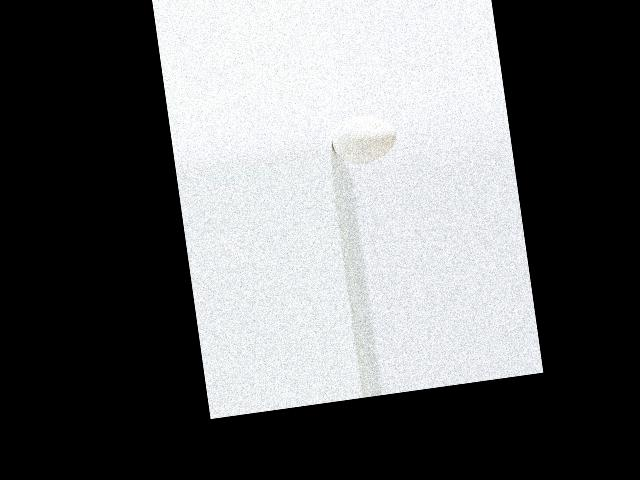egg: (328, 110, 399, 166)
